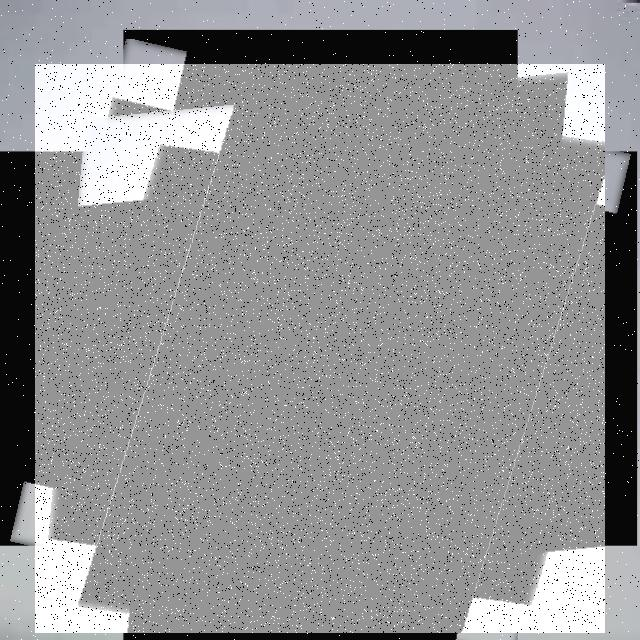dua puluh ribu rupiah: (35, 64, 605, 633)
